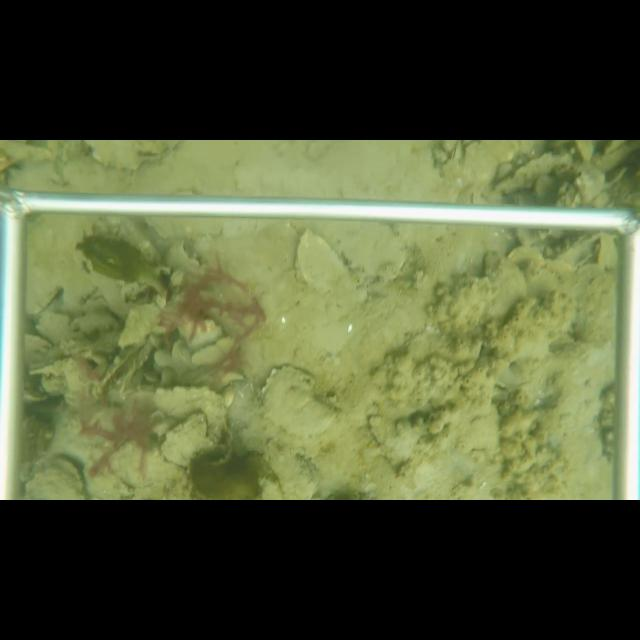Oyster-Closed: (442, 252, 532, 330), (257, 363, 340, 440), (118, 385, 237, 438), (293, 227, 370, 307), (337, 222, 410, 290), (107, 439, 187, 489), (156, 411, 214, 468), (492, 153, 572, 192), (20, 454, 87, 500), (449, 141, 467, 166)
Oyster-Open: (95, 336, 152, 399), (169, 235, 208, 270), (134, 140, 172, 164)
